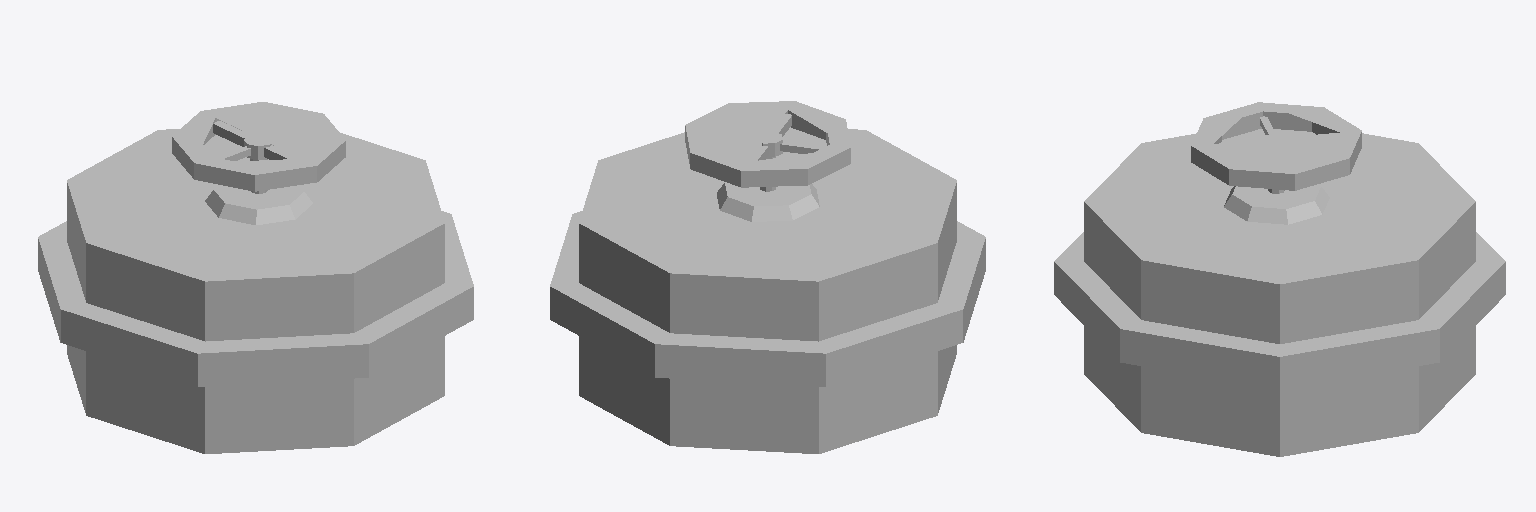
Rendered from Drum_1.obj.
The picture shows the model from 3 angles: view 1: azimuth 30°, elevation 25°; view 2: azimuth 150°, elevation 25°; view 3: azimuth 270°, elevation 25°; orthographic projection.
Visible parts, largest first — view 1: Cylinder.003; view 2: Cylinder.003; view 3: Cylinder.003.
Boxes of the visible parts, <box> form: Cylinder.003: <box>38,102,473,453</box>; Cylinder.003: <box>550,101,985,453</box>; Cylinder.003: <box>1054,102,1505,456</box>.
Size of the model in its own units: 0.9418 by 0.5452 by 0.9418.